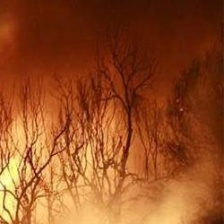fire: (1, 118, 128, 223)
